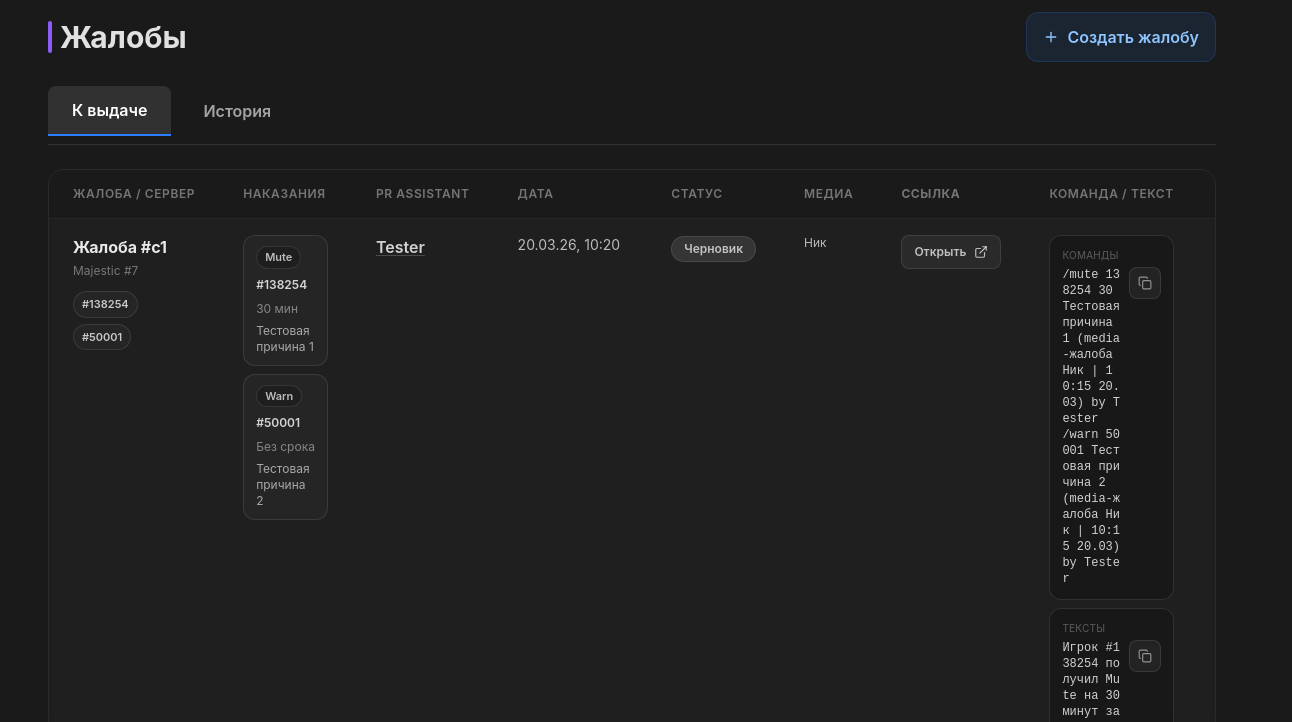
it: ComplaintsPage › renders complaint-level queue and history rows with aggregate previews
Check: the text "Жалоба #c1" is shown once, box top-left (73, 237), bottom-right (167, 257)
Check: the text "Ник" is shown, box top-left (804, 235), bottom-right (826, 250)
What coordinates should you click on to do the following:
click the button "История"
I would click on:
 (237, 111)
Its box is top-left (179, 86), bottom-right (295, 136).
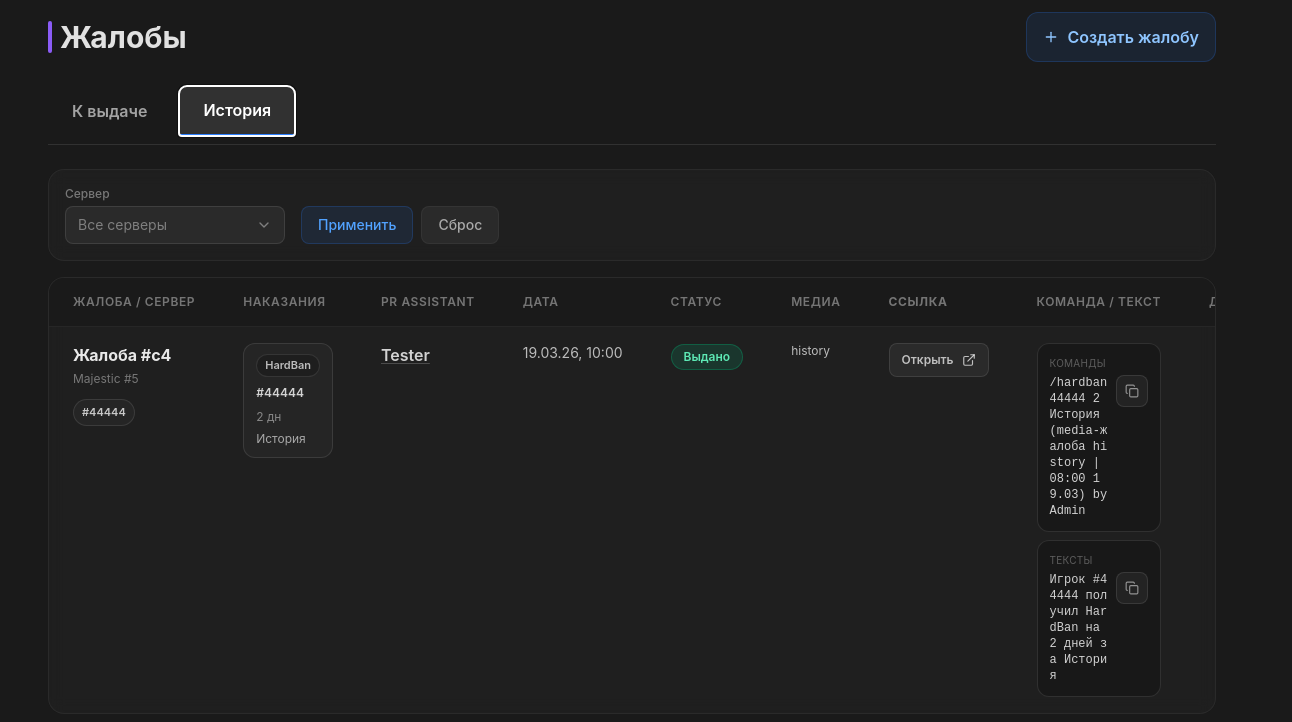
Check: the text "Жалоба #c4" is shown once, box top-left (73, 345), bottom-right (171, 365)
